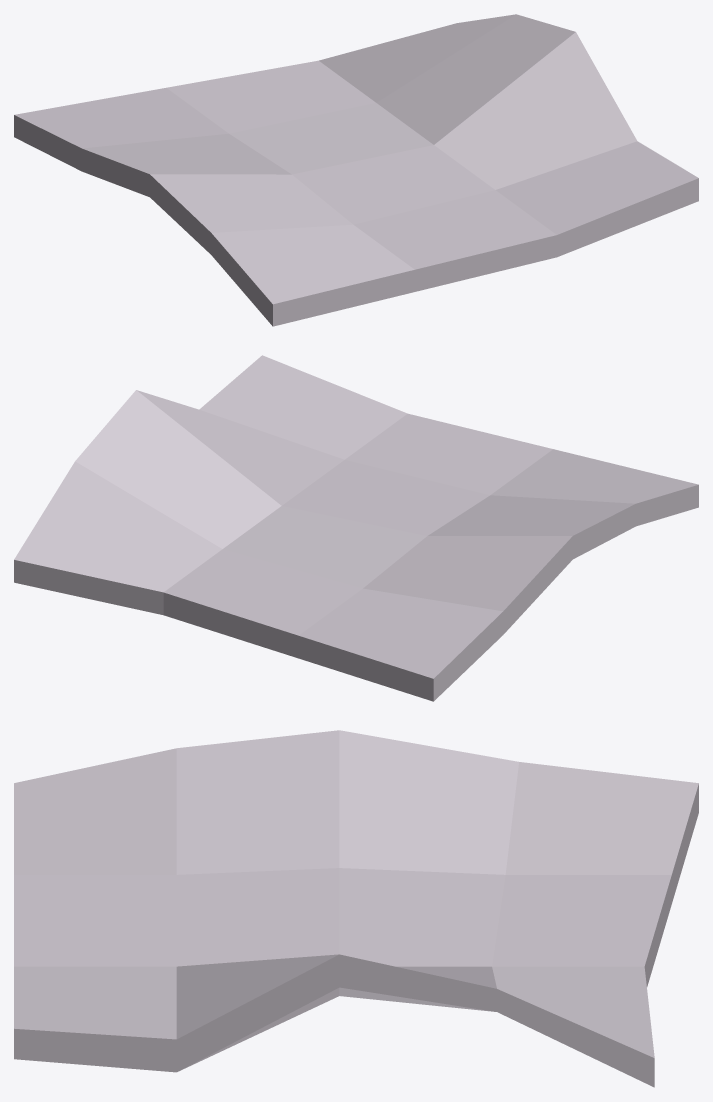
File: snow_03.fbx
3 renders of one model, top to bottom at view 1: azimuth 30°, elevation 25°; view 2: azimuth 150°, elevation 25°; view 3: azimuth 270°, elevation 25°, orthographic. The views are drawn at different scales.
Visible parts, largest first — view 1: Plane.019; view 2: Plane.019; view 3: Plane.019.
Boxes of the visible parts, x1=… form: Plane.019: x1=14, y1=14, x2=698, y2=326; Plane.019: x1=14, y1=355, x2=698, y2=701; Plane.019: x1=14, y1=730, x2=698, y2=1087.
Size of the model in its own units: 600 by 136 by 631.
